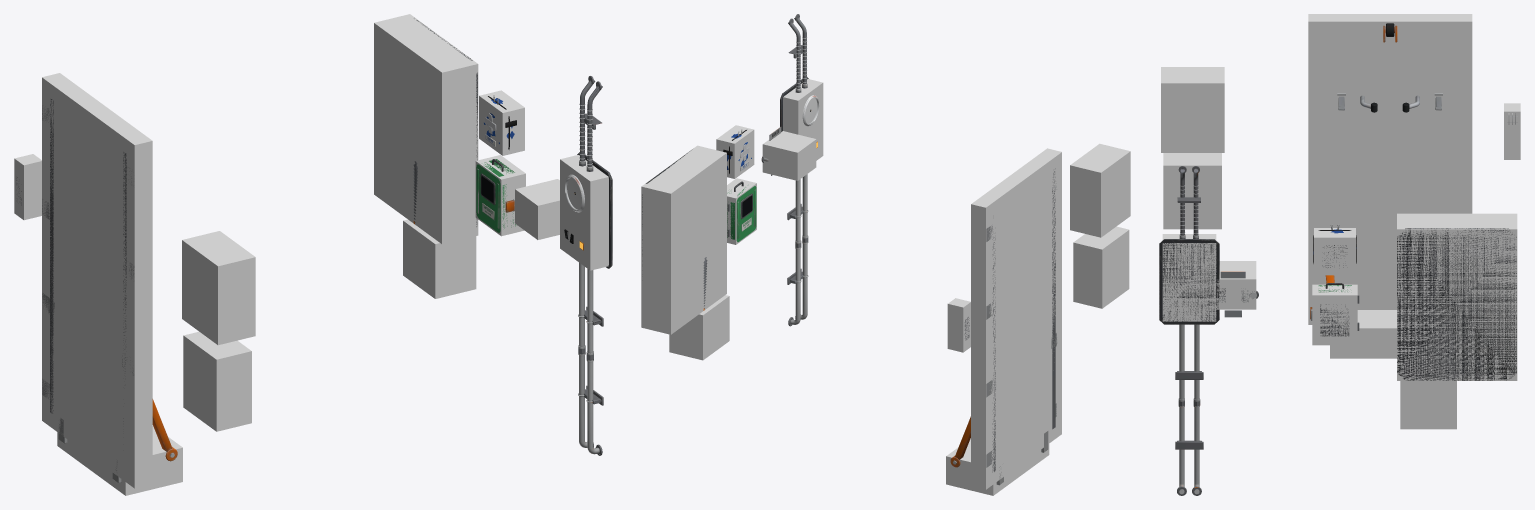
File: props_airlock.glb
The picture shows the model from 3 angles, left to right: view 1: azimuth 30°, elevation 25°; view 2: azimuth 150°, elevation 25°; view 3: azimuth 270°, elevation 25°; orthographic projection. The views are drawn at different scales.
Parts seen in each view (by area): view 1: col_suit_frame_dock, col_service_panel, col_bag_stow_1, col_bag_stow_2, gauge_panel, col_gauge_panel, col_service_panel_hose, suit_frame_dock, col_suit_frame_dock_plate, col_gauge_panel_valve, col_firstaid_pouch, o2_mask_box (+2 smaller); view 2: col_suit_frame_dock, col_service_panel, col_bag_stow_1, col_bag_stow_2, gauge_panel, col_service_panel_hose, suit_frame_dock, col_gauge_panel_valve, col_gauge_panel, col_suit_frame_dock_plate, col_firstaid_pouch, o2_mask_box (+2 smaller); view 3: col_suit_frame_dock, col_service_panel, service_panel, gauge_panel, col_bag_stow_1, col_gauge_panel, col_bag_stow_2, col_o2_mask_box, col_service_panel_hose, col_suit_frame_dock_plate, col_firstaid_pouch, col_gauge_panel_valve (+3 smaller).
Part boxes in pixels (bbox=[...]): col_suit_frame_dock: bbox=[42, 73, 152, 488]; col_service_panel: bbox=[374, 14, 478, 244]; col_bag_stow_1: bbox=[182, 231, 255, 345]; col_bag_stow_2: bbox=[183, 331, 251, 431]; gauge_panel: bbox=[564, 76, 612, 455]; col_gauge_panel: bbox=[560, 155, 608, 270]; col_service_panel_hose: bbox=[403, 219, 476, 298]; suit_frame_dock: bbox=[42, 99, 177, 482]; col_suit_frame_dock_plate: bbox=[57, 426, 182, 495]; col_gauge_panel_valve: bbox=[515, 179, 559, 239]; col_firstaid_pouch: bbox=[479, 90, 524, 155]; o2_mask_box: bbox=[476, 159, 515, 232]; col_suit_frame_dock: bbox=[971, 148, 1061, 489]; col_service_panel: bbox=[641, 145, 726, 334]; col_bag_stow_1: bbox=[1070, 143, 1130, 237]; col_bag_stow_2: bbox=[1073, 226, 1129, 308]; gauge_panel: bbox=[761, 14, 819, 326]; col_service_panel_hose: bbox=[669, 295, 729, 360]; suit_frame_dock: bbox=[950, 168, 1057, 485]; col_gauge_panel_valve: bbox=[762, 131, 816, 180]; col_gauge_panel: bbox=[783, 79, 823, 160]; col_suit_frame_dock_plate: bbox=[946, 438, 1049, 495]; col_firstaid_pouch: bbox=[716, 125, 754, 178]; o2_mask_box: bbox=[727, 181, 756, 241]; col_suit_frame_dock: bbox=[1308, 14, 1472, 324]; col_service_panel: bbox=[1397, 213, 1517, 380]; service_panel: bbox=[1397, 228, 1516, 380]; gauge_panel: bbox=[1159, 166, 1258, 495]; col_bag_stow_1: bbox=[1161, 67, 1224, 152]; col_gauge_panel: bbox=[1162, 234, 1216, 321]; col_bag_stow_2: bbox=[1163, 153, 1221, 229]; col_o2_mask_box: bbox=[1312, 284, 1357, 345]; col_service_panel_hose: bbox=[1400, 381, 1456, 429]; col_suit_frame_dock_plate: bbox=[1330, 310, 1396, 358]; col_firstaid_pouch: bbox=[1314, 228, 1355, 275]; col_gauge_panel_valve: bbox=[1216, 261, 1256, 309].
Size of the model in its own units: 2.42 by 2.21 by 2.16.
6 materials, 3 textured.
